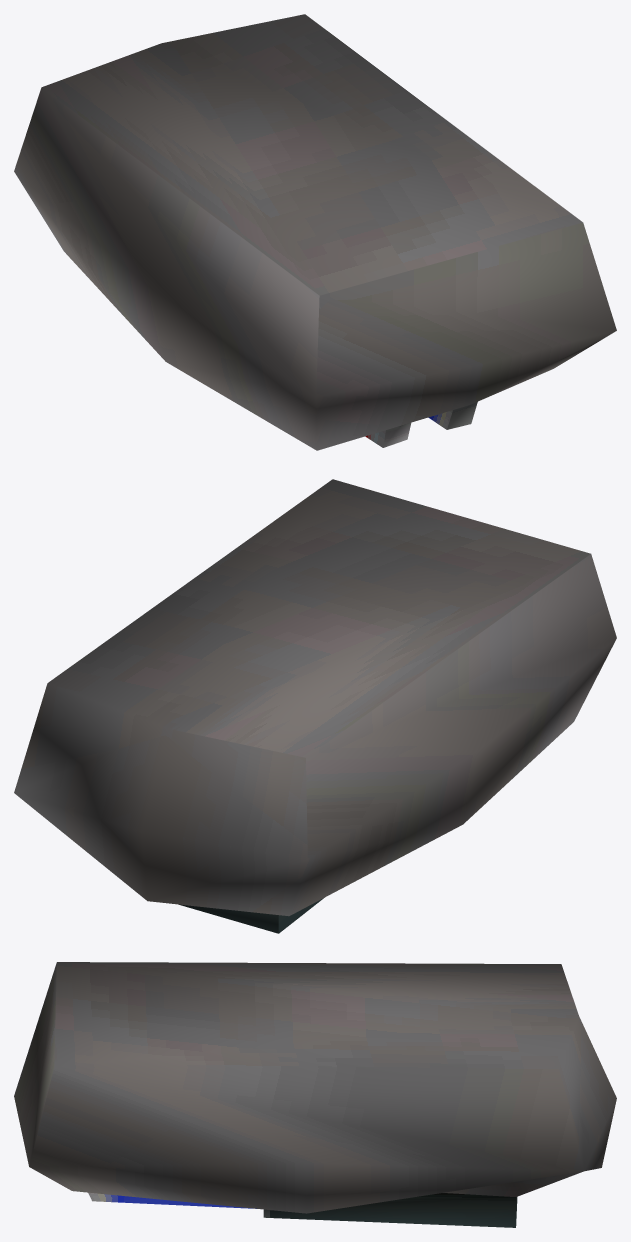
The model's file is EXPLOSIVE01_C4.glb.
3 renders of one model, top to bottom at view 1: azimuth 30°, elevation 25°; view 2: azimuth 150°, elevation 25°; view 3: azimuth 270°, elevation 25°, orthographic. The views are drawn at different scales.
Visible parts, largest first — view 1: EXPLOSIVE01_C4; view 2: EXPLOSIVE01_C4; view 3: EXPLOSIVE01_C4.
Boxes of the visible parts, bbox=[...] form: EXPLOSIVE01_C4: bbox=[14, 14, 616, 450]; EXPLOSIVE01_C4: bbox=[14, 479, 616, 933]; EXPLOSIVE01_C4: bbox=[14, 962, 616, 1227].
Bounding box in the file's own units: 0.133 × 0.085 × 0.239.
1 material, 1 textured.
